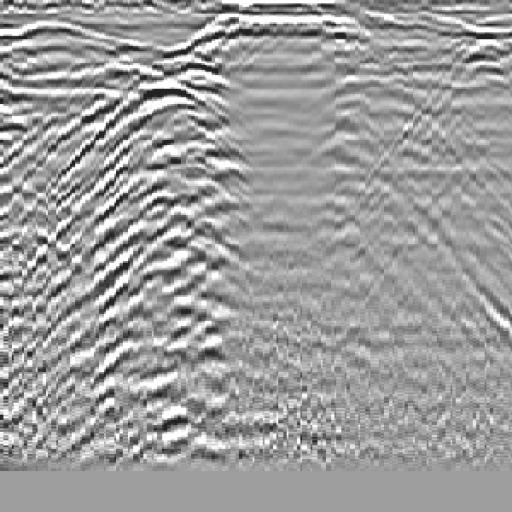metalic: (60, 49, 248, 393)
